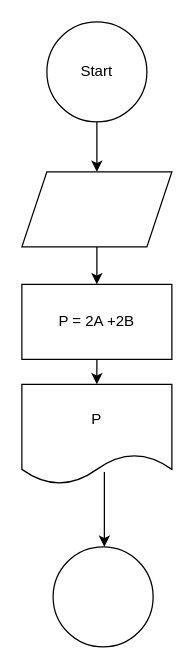
This 194x669 diagram has some shape labels left out. Here are the shapes that lost their labels. From the top down, the centre of each, then its label:
At [96,209]: "A; B".
At [102,596]: "END".
